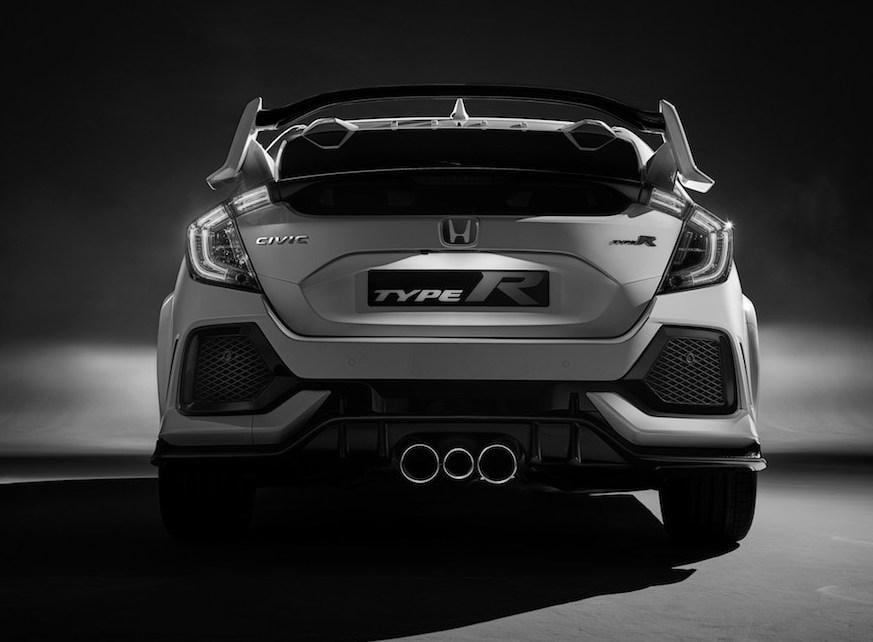Car boot: (220, 159, 690, 348)
Rear bumper: (145, 324, 775, 501)
Rear light - -L-: (183, 183, 277, 296)
Rear light - -R-: (651, 201, 736, 299)
